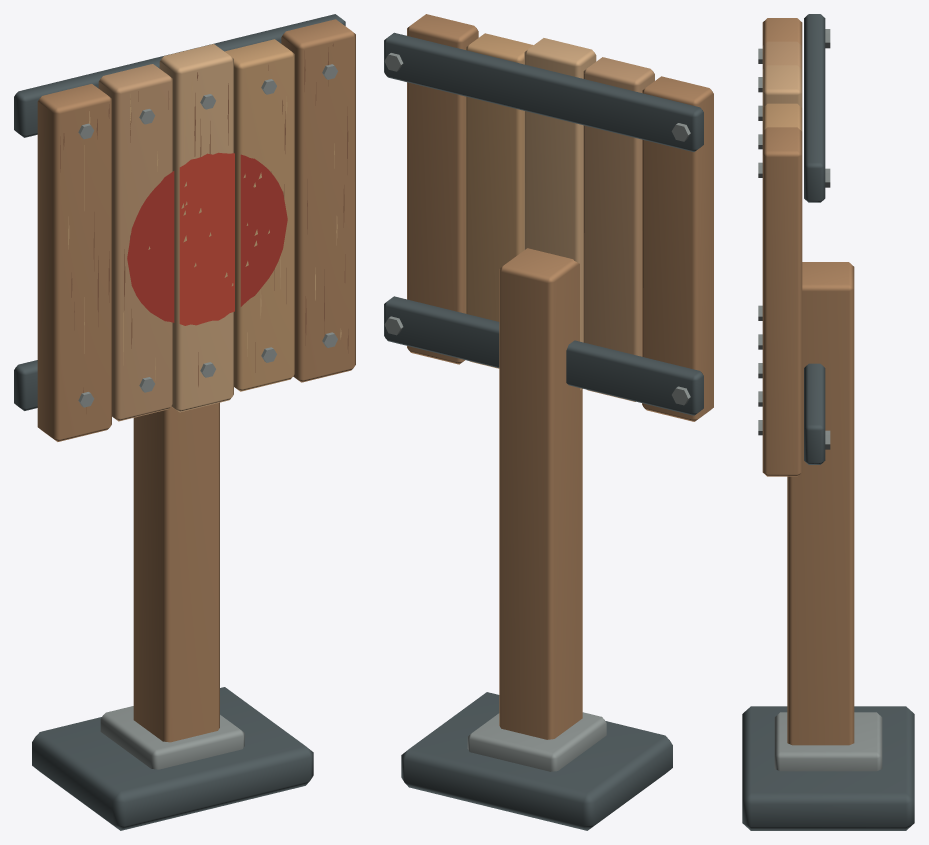
File: w3b-practice-plank.glb
3 views of the same model, side by side, from view 1: azimuth 30°, elevation 25°; view 2: azimuth 150°, elevation 25°; view 3: azimuth 270°, elevation 25° (orthographic). The views are drawn at different scales.
Visible parts, largest first — view 1: W06 Practice plank; view 2: W06 Practice plank; view 3: W06 Practice plank.
Part boxes in pixels (x1,y1,x2,y2): W06 Practice plank: [14, 14, 355, 830]; W06 Practice plank: [384, 14, 713, 830]; W06 Practice plank: [742, 14, 914, 830].
Bounding box in the file's own units: 0.94 × 2.04 × 0.45.
